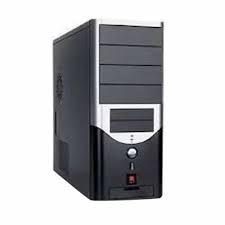pc: (47, 19, 174, 204)
